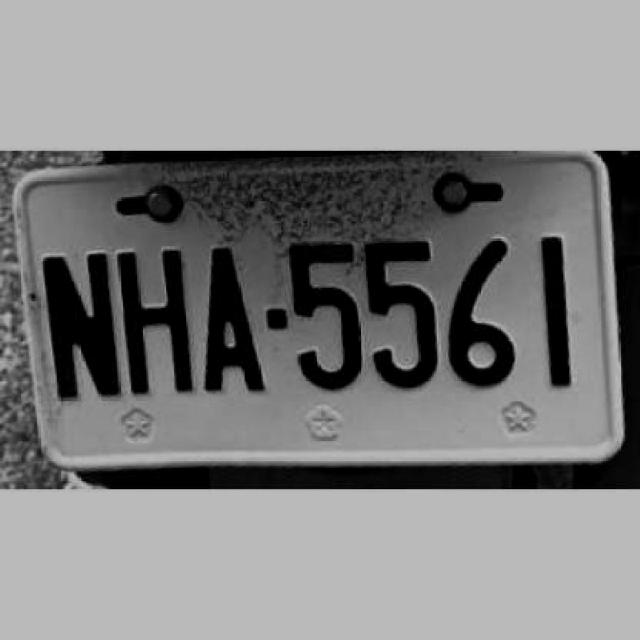-: (266, 308, 288, 330)
1: (537, 236, 571, 390)
5: (286, 238, 361, 389), (361, 237, 435, 388)
6: (449, 236, 517, 386)
A: (200, 243, 263, 388)
H: (113, 245, 191, 390)
N: (38, 248, 118, 399)
